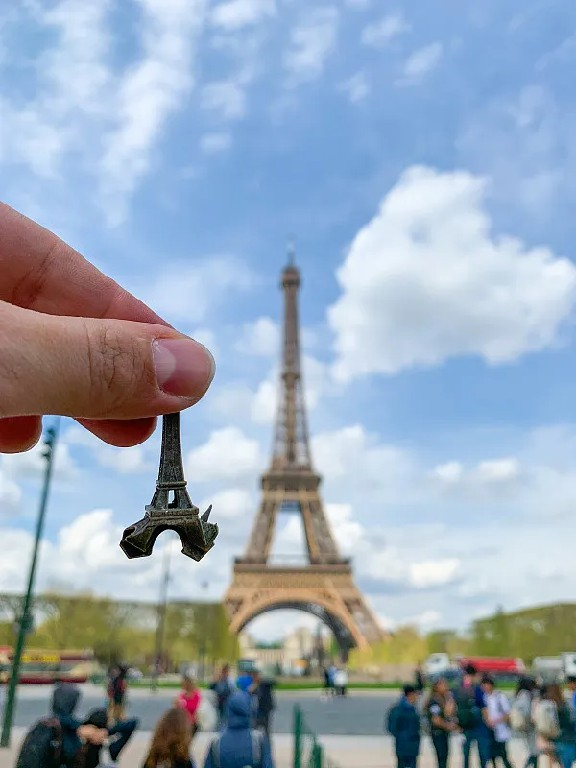Eiffel: (208, 238, 389, 675), (120, 403, 218, 559)
